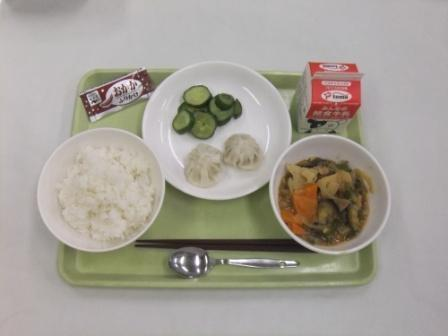Milk: (289, 53, 363, 133)
Rice: (40, 135, 169, 254)
Salad: (174, 82, 234, 137)
manty: (174, 121, 270, 191)
vegetable based cooked food: (268, 144, 395, 256)
